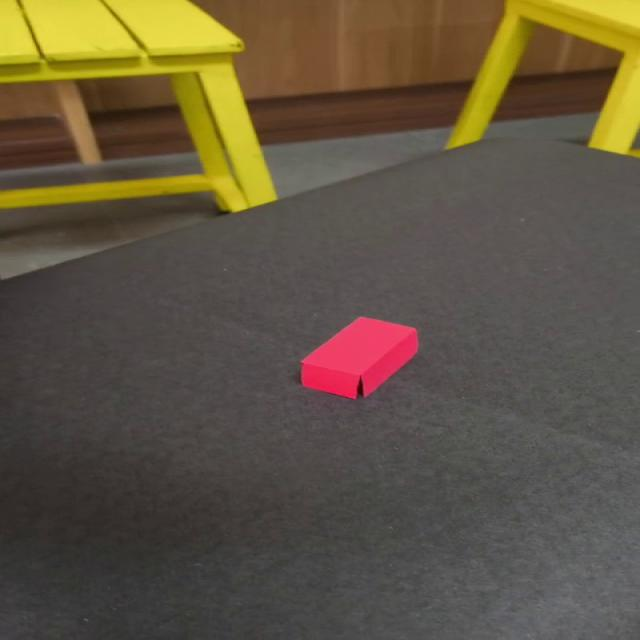red block: (297, 316, 419, 399)
